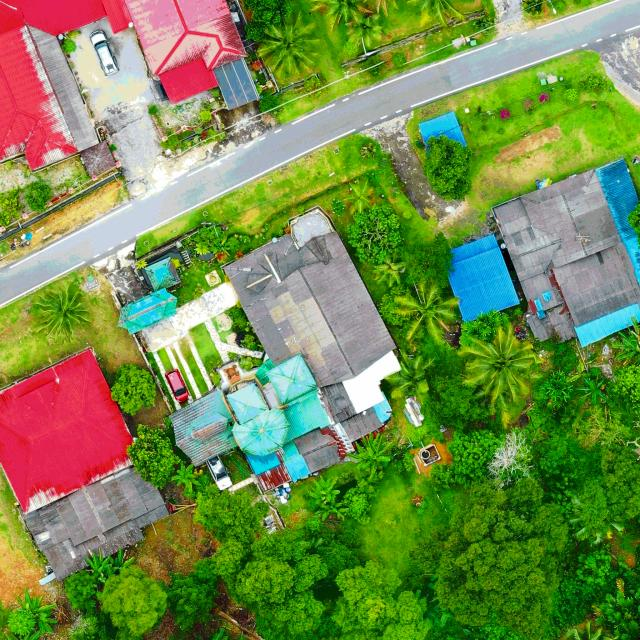Tree: (435, 475, 569, 637), (213, 528, 329, 605), (461, 324, 540, 409), (96, 565, 169, 638), (191, 480, 271, 545), (329, 560, 399, 632), (395, 279, 461, 344), (258, 10, 321, 78), (345, 198, 404, 265), (168, 558, 220, 630), (422, 131, 474, 202), (126, 423, 180, 491), (254, 589, 326, 640), (31, 282, 93, 341), (447, 426, 503, 484), (397, 230, 454, 282), (382, 351, 436, 402), (110, 362, 158, 416), (345, 431, 396, 481), (17, 590, 58, 634), (377, 282, 414, 327), (611, 315, 640, 366), (64, 569, 98, 609), (342, 486, 374, 526), (169, 460, 202, 498), (341, 179, 376, 214), (22, 179, 52, 213), (577, 376, 613, 404), (0, 187, 24, 228), (84, 547, 112, 582), (308, 475, 340, 504), (372, 258, 404, 287), (314, 494, 348, 521), (109, 548, 135, 572)
